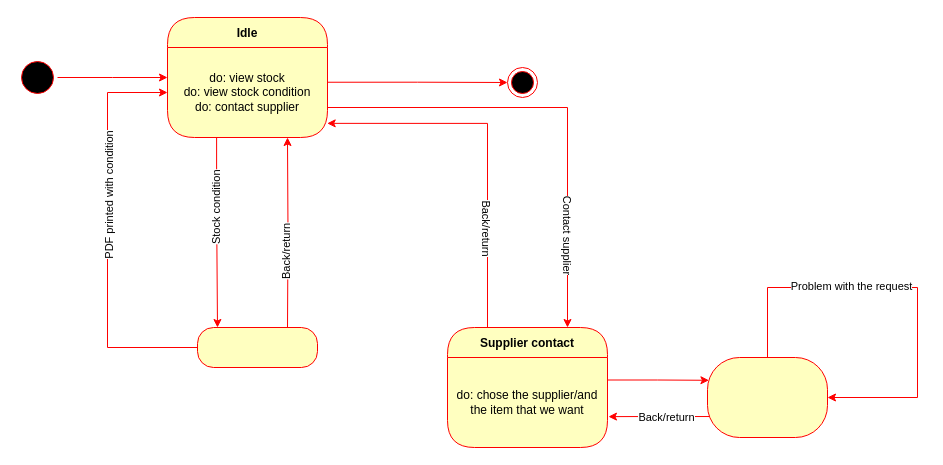
The diagram is 943 pixels wide and 465 high, and some of its shapes have lost their labels. Here are the shapes that lost their labels. From the top down, the centre of each, then its label:
point 257,347: entry: print stock condition
point 767,397: Request made
